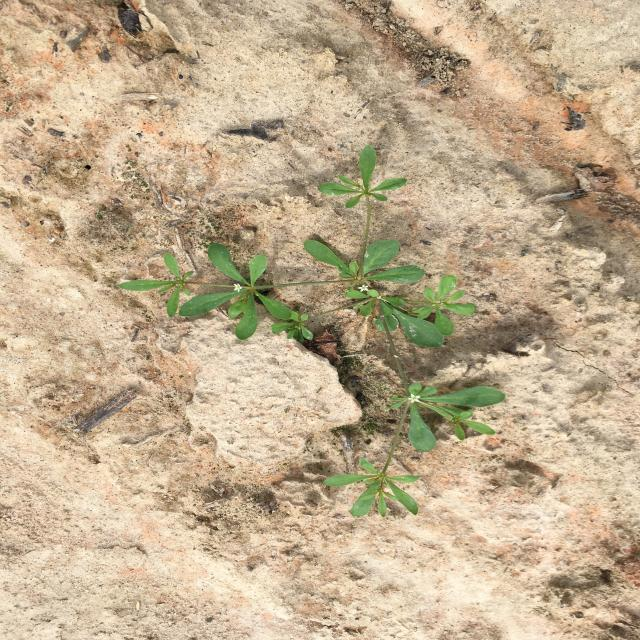Carpetweed: (118, 145, 507, 518)
